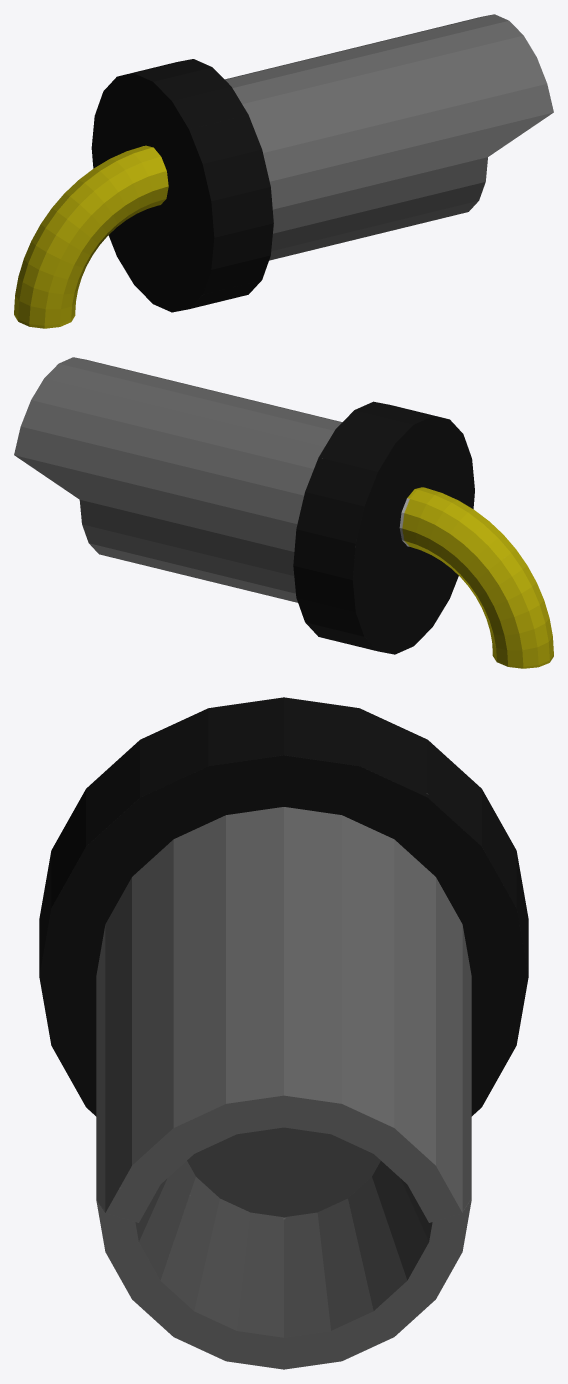
Rendered from TopGun.fbx.
3 renders of one model, top to bottom at view 1: azimuth 30°, elevation 25°; view 2: azimuth 150°, elevation 25°; view 3: azimuth 270°, elevation 25°, orthographic. The views are drawn at different scales.
Parts seen in each view (by area): view 1: Cylinder; view 2: Cylinder; view 3: Cylinder.
Boxes of the visible parts, x1=… form: Cylinder: x1=14, y1=14, x2=553, y2=328; Cylinder: x1=14, y1=357, x2=553, y2=668; Cylinder: x1=39, y1=697, x2=528, y2=1369.
Size of the model in its own units: 463 by 200 by 200.
